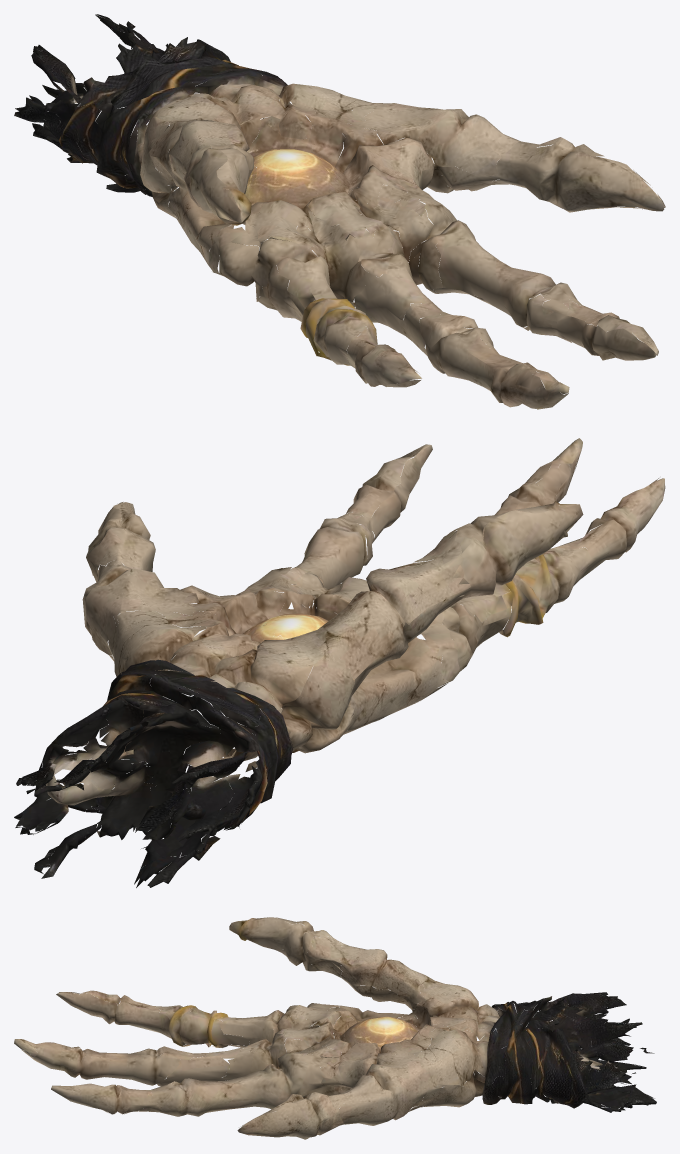
Rendered from bishop_hand.glb.
3 renders of one model, top to bottom at view 1: azimuth 30°, elevation 25°; view 2: azimuth 150°, elevation 25°; view 3: azimuth 270°, elevation 25°, orthographic. The views are drawn at different scales.
Parts seen in each view (by area): view 1: bishop_hand; view 2: bishop_hand; view 3: bishop_hand.
Part boxes in pixels (box(x1,y1,x2,y2)): bishop_hand: box(14, 14, 665, 409); bishop_hand: box(14, 438, 665, 887); bishop_hand: box(14, 917, 656, 1139).
Size of the model in its own units: 1.96 by 0.8511 by 3.79.
1 material, 1 textured.
